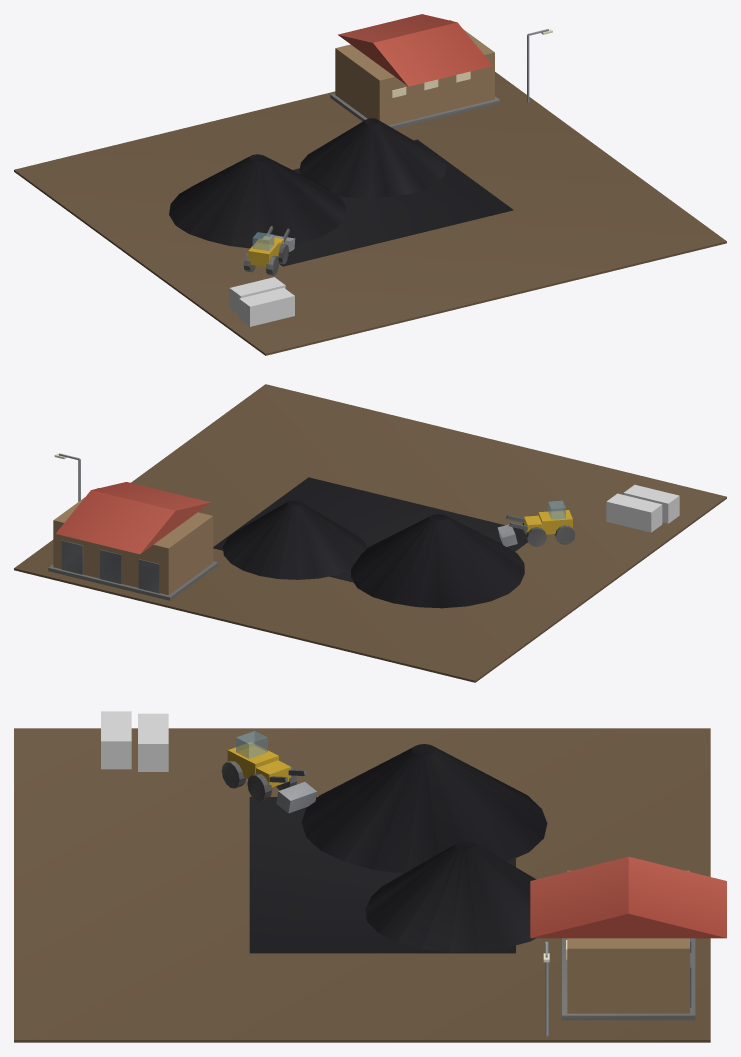
File: Depot_P1.fbx
3 views of the same model, one above another, from view 1: azimuth 30°, elevation 25°; view 2: azimuth 150°, elevation 25°; view 3: azimuth 270°, elevation 25° (orthographic). The views are drawn at different scales.
Parts seen in each view (by area): view 1: Depot.Yard, Depot.Shed1, Depot.Pile0, Depot.Pile1, Depot.Containers, Depot.Loader; view 2: Depot.Yard, Depot.Shed1, Depot.Pile0, Depot.Pile1, Depot.Containers, Depot.Loader; view 3: Depot.Yard, Depot.Shed1, Depot.Pile0, Depot.Pile1, Depot.Loader, Depot.Containers.
Boxes of the visible parts, x1,y1,x2,y2 form: Depot.Yard: (14,72,726,355); Depot.Shed1: (330,14,500,129); Depot.Pile0: (169,154,345,248); Depot.Pile1: (299,118,445,198); Depot.Containers: (229,277,294,326); Depot.Loader: (243,226,295,275); Depot.Yard: (14,384,726,682); Depot.Shed1: (48,482,218,600); Depot.Pile0: (351,514,524,608); Depot.Pile1: (223,500,366,579); Depot.Containers: (606,484,679,532); Depot.Loader: (497,500,575,546); Depot.Yard: (14,728,710,1042); Depot.Shed1: (530,856,726,1020); Depot.Pile0: (301,744,547,873); Depot.Pile1: (365,841,536,952); Depot.Loader: (221,731,317,813); Depot.Containers: (101,711,168,771).
Size of the model in its own units: 7469 by 1045 by 6960.
